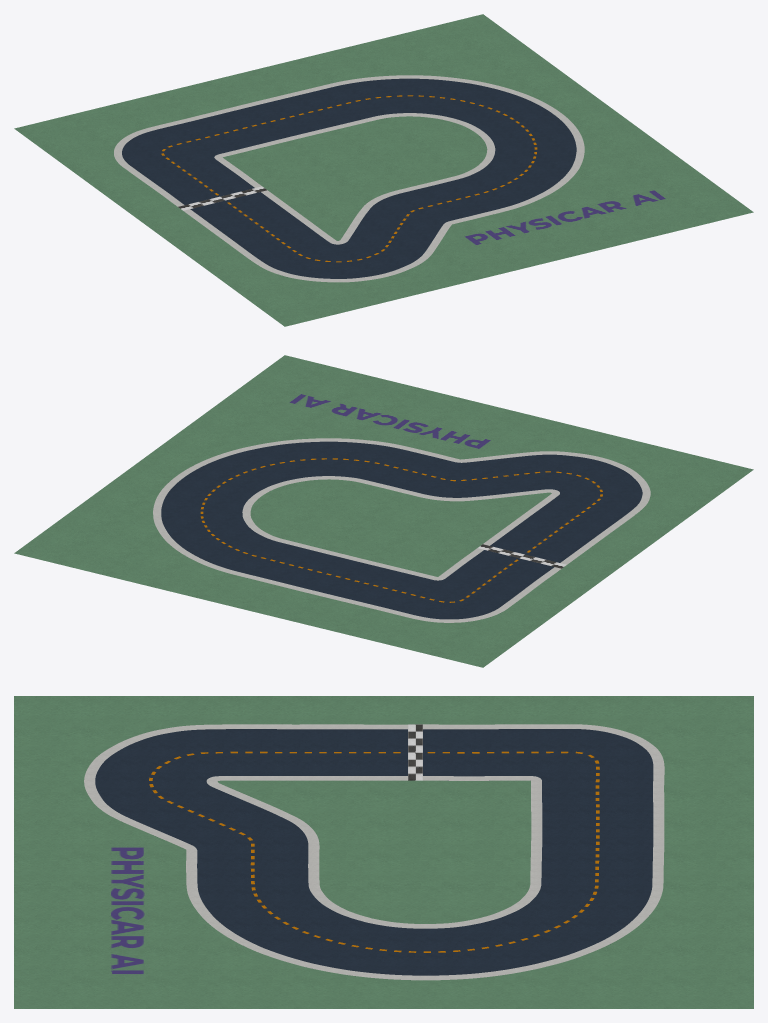
The model's file is physicar_base.dae.
The picture shows the model from 3 angles, top to bottom: view 1: azimuth 30°, elevation 25°; view 2: azimuth 150°, elevation 25°; view 3: azimuth 270°, elevation 25°; orthographic projection. The views are drawn at different scales.
Visible parts, largest first — view 1: field, road, outer_line, inner_line, physicar_ai_text, center_line; view 2: field, road, outer_line, inner_line, physicar_ai_text, center_line; view 3: field, road, outer_line, inner_line, physicar_ai_text, center_line, start_line.
Part boxes in pixels (x1,y1,x2,y2): field: (14,14,753,326); road: (122,78,576,278); outer_line: (114,75,584,282); inner_line: (214,113,495,244); physicar_ai_text: (463,189,667,245); center_line: (161,95,537,262); field: (14,355,753,667); road: (161,441,642,619); outer_line: (153,438,650,622); inner_line: (242,476,559,580); physicar_ai_text: (288,393,491,449); center_line: (200,458,602,602); field: (14,696,753,1008); road: (95,729,653,975); outer_line: (84,724,664,980); inner_line: (206,776,542,928); physicar_ai_text: (111,846,144,974); center_line: (149,751,599,952); start_line: (408,724,422,780).
Size of the model in its own units: 5 by 5 by 0.0002.
Materials: 7 (7 with a texture image).
